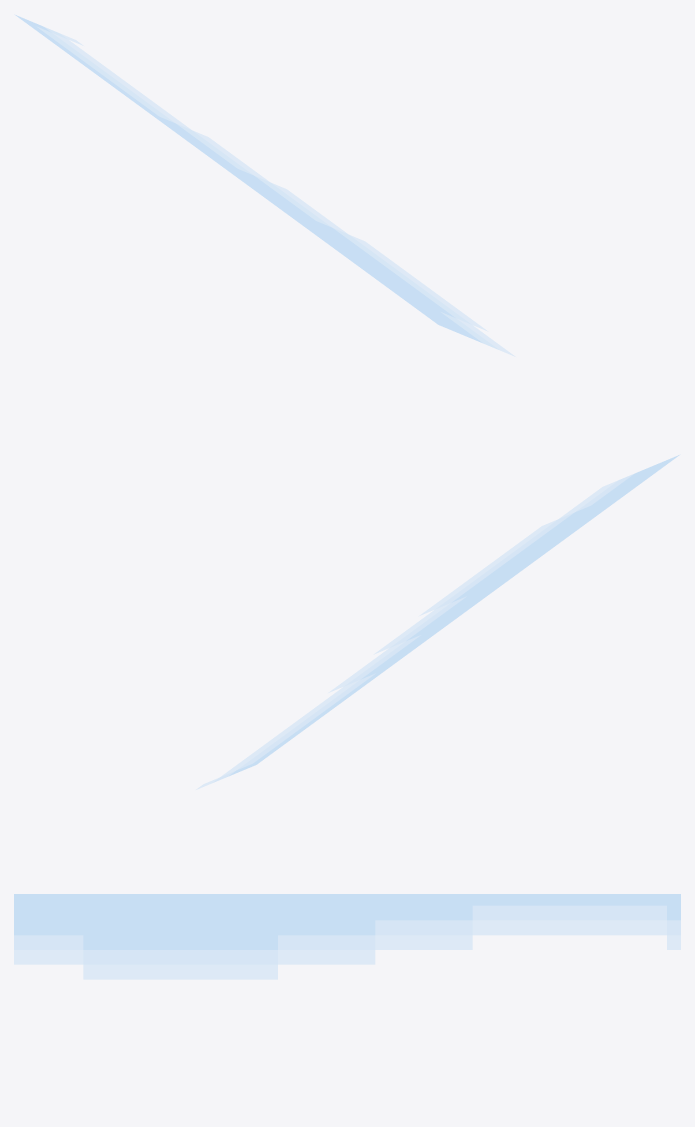
The picture shows the model from 3 angles, top to bottom: view 1: azimuth 30°, elevation 25°; view 2: azimuth 150°, elevation 25°; view 3: azimuth 270°, elevation 25°; orthographic projection. The views are drawn at different scales.
Size of the model in its own units: 0.3301 by 0.2081 by 1.
1 material, 1 textured.
